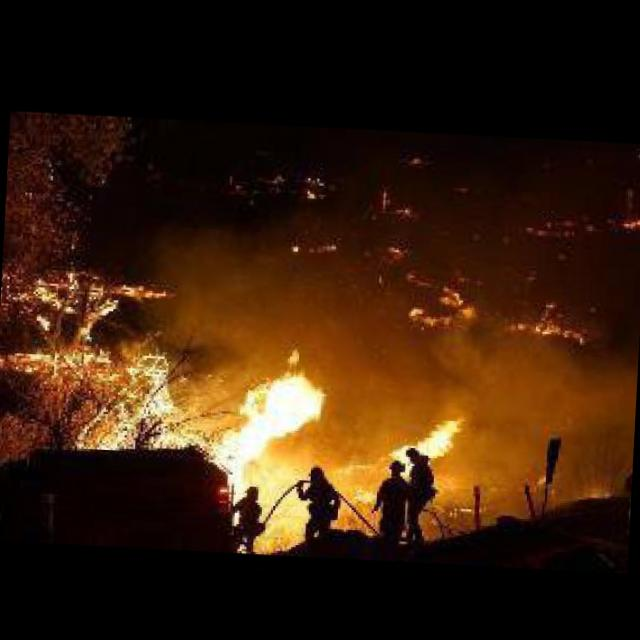fire: (2, 266, 176, 451), (204, 348, 330, 480), (371, 406, 471, 480), (397, 276, 480, 332), (501, 298, 593, 346), (621, 208, 640, 238)
